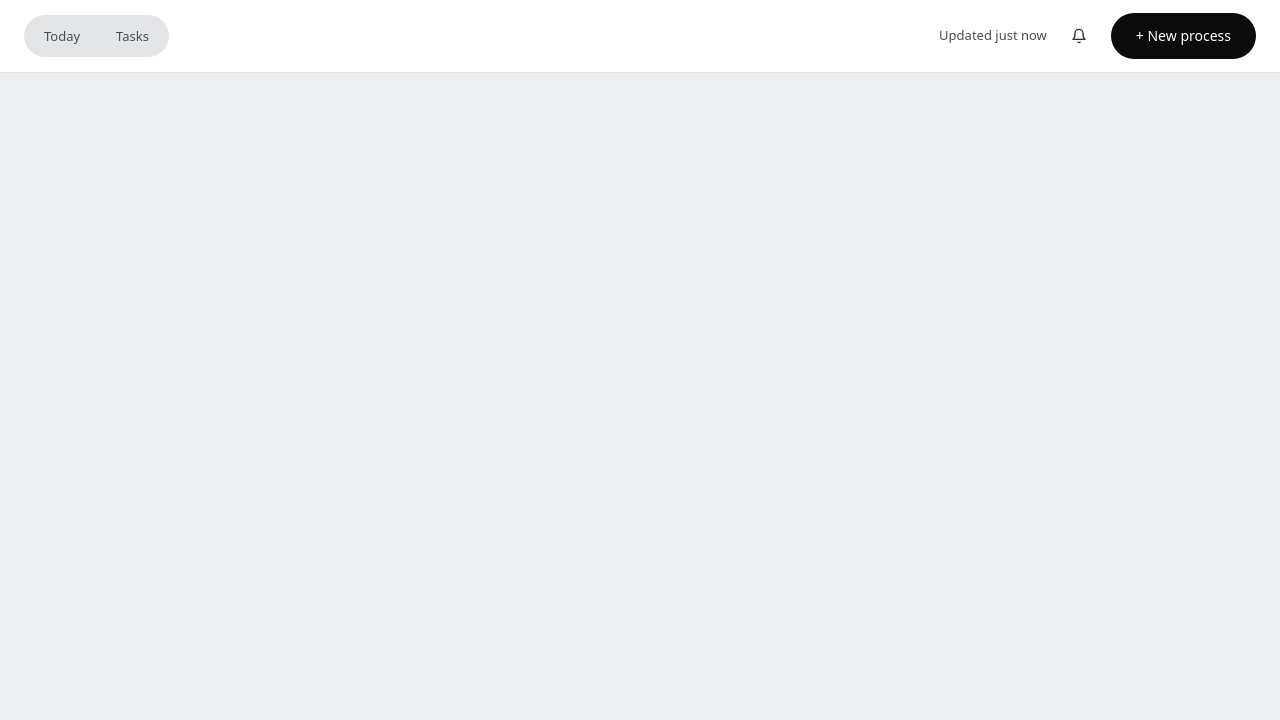
Test case: the inbox panel at 1280px, English › never forces the page body to scroll sideways
Click the button named "Notifications" at (1079, 36), box x1=1059 y1=12 x2=1099 y2=60
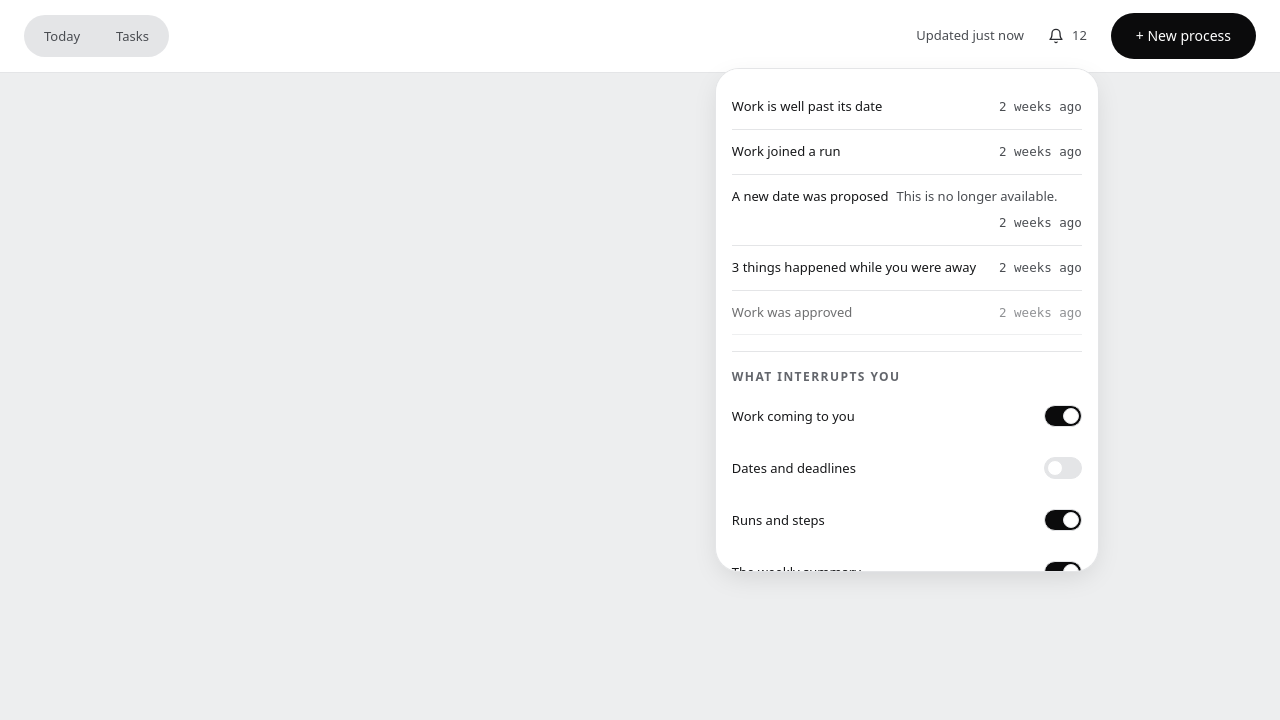
Result: the number of list items is 5 at x1=732 y1=85 x2=1082 y2=130; x1=732 y1=130 x2=1082 y2=175; x1=732 y1=174 x2=1082 y2=246; x1=732 y1=246 x2=1082 y2=291; x1=732 y1=290 x2=1082 y2=335
